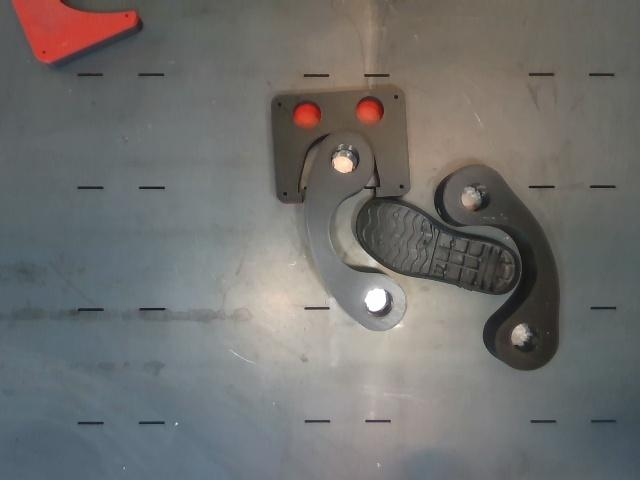shoes: (357, 198, 520, 294)
